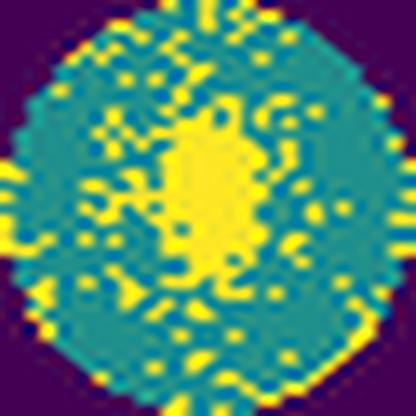Center: (80, 92, 303, 300)
